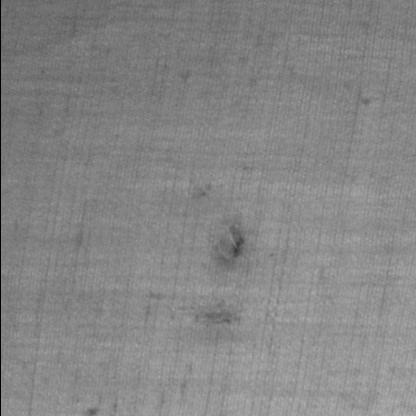objects: (208, 219, 250, 270)
